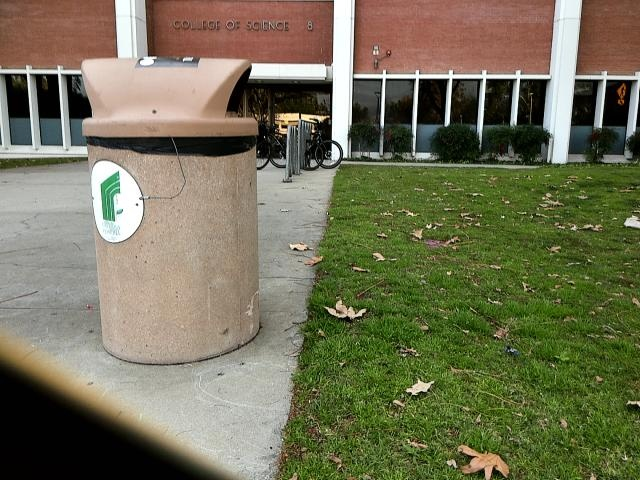trashcan: (73, 53, 271, 370)
